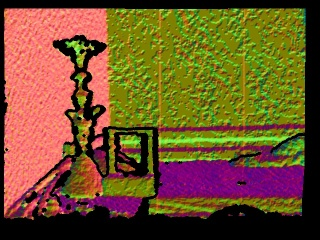station: (100, 126, 159, 198)
